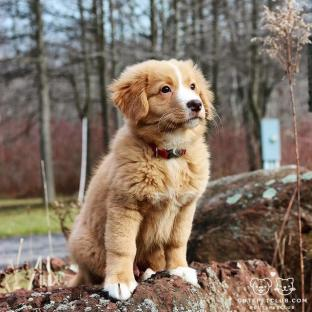Animal: (69, 59, 213, 300)
